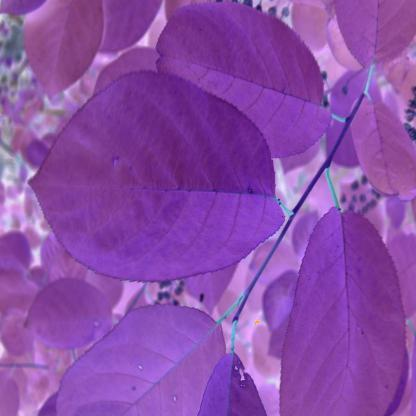Cherry leaf: (20, 74, 286, 297), (150, 3, 342, 164), (284, 198, 413, 416), (50, 297, 231, 416)
